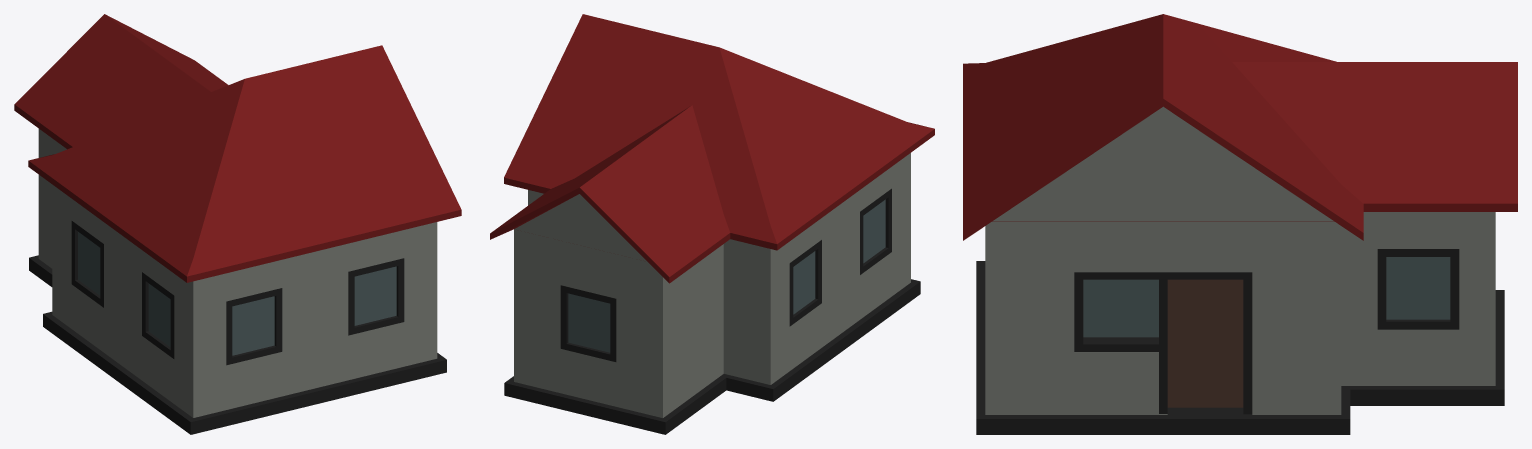
Rendered from house_02.fbx.
3 views of the same model, side by side, from view 1: azimuth 30°, elevation 25°; view 2: azimuth 150°, elevation 25°; view 3: azimuth 270°, elevation 25° (orthographic). The views are drawn at different scales.
Visible parts, largest first — view 1: building_004; view 2: building_004; view 3: building_004.
Part boxes in pixels (box(x1,y1,x2,y2)): building_004: box(14, 14, 461, 434); building_004: box(490, 14, 934, 434); building_004: box(963, 14, 1517, 434).
Size of the model in its own units: 450 by 424 by 623.
